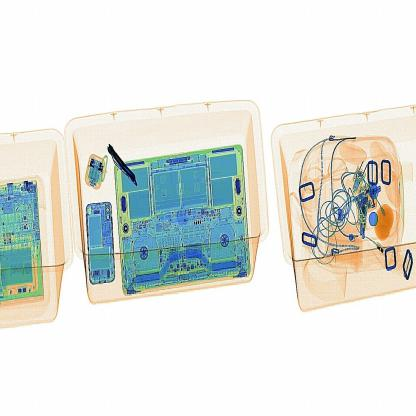knife: (108, 142, 140, 189)
